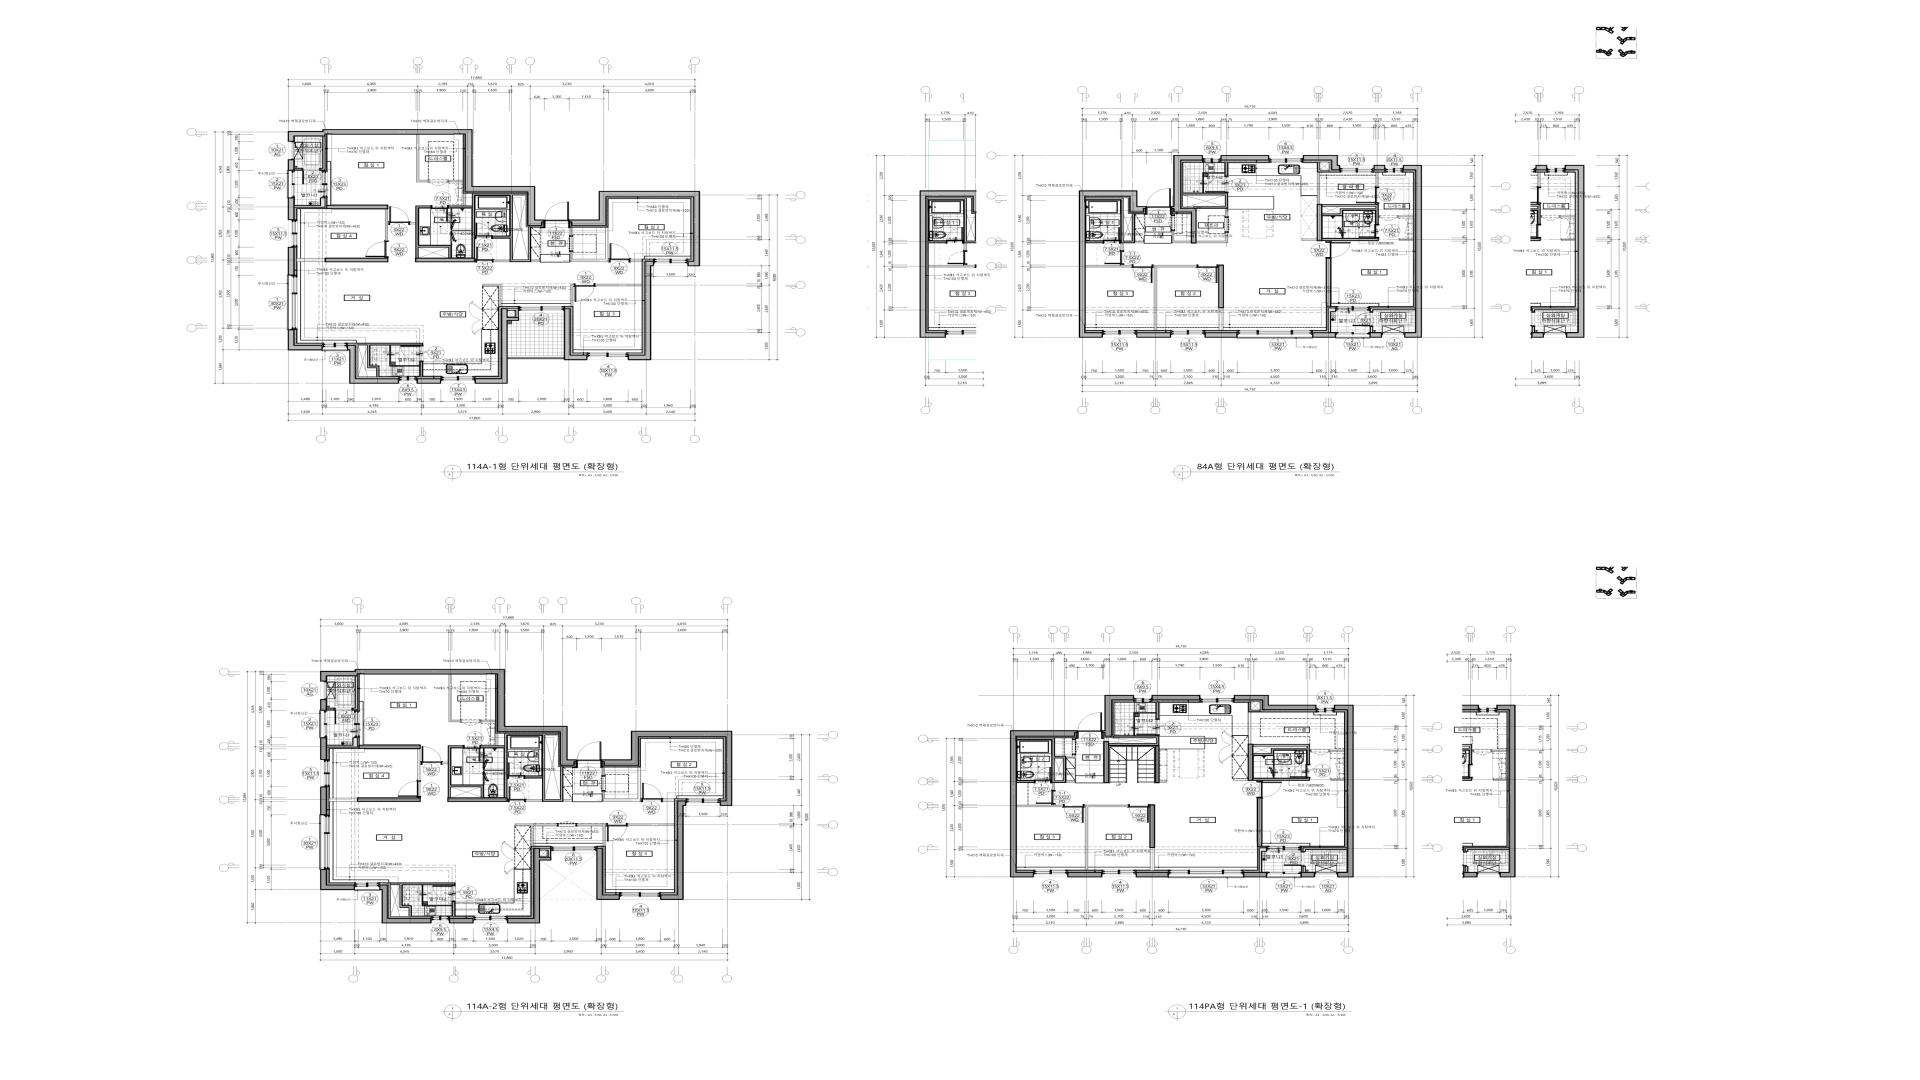door: (543, 203, 570, 228), (1146, 189, 1171, 215), (1077, 712, 1102, 738), (576, 741, 601, 767), (608, 243, 630, 262), (1325, 241, 1350, 258), (1257, 781, 1282, 798), (1133, 264, 1154, 284), (1063, 804, 1085, 823), (605, 823, 628, 841), (400, 345, 423, 363), (1356, 187, 1379, 204), (1205, 175, 1229, 193), (1137, 719, 1160, 736), (388, 207, 409, 225), (574, 284, 595, 302), (1197, 265, 1218, 284), (1129, 804, 1150, 823), (421, 746, 442, 765), (641, 783, 662, 802), (433, 885, 455, 902), (398, 781, 421, 798), (365, 241, 389, 257), (1102, 227, 1121, 244), (463, 745, 481, 762), (475, 223, 493, 240), (302, 167, 320, 185), (1104, 251, 1125, 265), (1284, 852, 1305, 866), (508, 762, 525, 779), (475, 247, 493, 262), (508, 786, 526, 802), (1036, 790, 1056, 804), (1358, 224, 1379, 237), (1290, 765, 1311, 778), (1034, 767, 1051, 783), (335, 708, 352, 724), (431, 206, 448, 222), (429, 179, 448, 186), (1379, 215, 1398, 222), (1311, 749, 1329, 756), (460, 720, 481, 725), (1225, 216, 1232, 232), (558, 822, 576, 827)
wall: (320, 669, 576, 766), (287, 129, 543, 225), (1079, 190, 1146, 338), (1010, 731, 1077, 877), (570, 191, 700, 266), (601, 731, 732, 806), (448, 194, 539, 262), (481, 733, 572, 802), (1335, 704, 1354, 878), (506, 848, 551, 923), (475, 309, 520, 384), (1403, 165, 1422, 338), (1017, 737, 1075, 790), (1085, 198, 1143, 251), (1085, 804, 1129, 870), (1154, 265, 1197, 330), (1171, 156, 1203, 244), (659, 800, 686, 901), (628, 261, 654, 360), (409, 206, 452, 257), (442, 745, 484, 798), (359, 343, 423, 377), (390, 882, 455, 916), (347, 345, 400, 384), (380, 885, 431, 923), (1102, 695, 1134, 737), (570, 228, 608, 262), (603, 767, 641, 802), (1234, 695, 1316, 711), (596, 848, 620, 901), (564, 309, 588, 360), (1254, 744, 1311, 764), (1323, 204, 1379, 224), (1183, 193, 1228, 216), (514, 824, 558, 847), (320, 869, 355, 890), (287, 330, 322, 351), (576, 824, 605, 847), (448, 674, 460, 723), (417, 135, 429, 182), (1303, 156, 1340, 170), (1109, 736, 1159, 746), (1249, 702, 1261, 744), (1317, 162, 1329, 204), (483, 284, 501, 306), (326, 204, 388, 210), (1325, 258, 1332, 307), (327, 737, 357, 748), (1197, 232, 1228, 243), (415, 257, 475, 262), (294, 198, 324, 207), (1257, 798, 1262, 847), (1151, 695, 1200, 700), (1221, 156, 1270, 161), (357, 798, 421, 802), (324, 258, 388, 262), (359, 745, 421, 749), (1247, 744, 1254, 781), (447, 798, 508, 802), (1370, 307, 1415, 313), (1150, 804, 1155, 848), (1218, 265, 1224, 309), (1323, 237, 1379, 241), (1104, 741, 1109, 783), (508, 356, 563, 360), (1172, 231, 1191, 243), (1328, 307, 1336, 332), (1317, 204, 1323, 241), (320, 786, 327, 815), (287, 247, 294, 276), (1067, 872, 1102, 877), (1259, 848, 1267, 872), (352, 676, 357, 711), (1137, 332, 1171, 338), (1205, 332, 1238, 338), (320, 137, 326, 170), (1135, 872, 1168, 877), (1303, 848, 1346, 852), (320, 737, 327, 760), (287, 198, 294, 220), (1254, 778, 1309, 781), (1155, 746, 1159, 783), (448, 918, 473, 923), (417, 378, 442, 384), (595, 284, 642, 286), (1085, 265, 1133, 268), (1244, 872, 1267, 877), (1312, 332, 1336, 338), (1017, 804, 1063, 807), (1150, 848, 1155, 870), (328, 798, 357, 802), (1218, 309, 1224, 330), (297, 258, 324, 262), (541, 848, 551, 857), (508, 309, 518, 318), (418, 749, 421, 781), (385, 210, 388, 241), (287, 160, 294, 171), (320, 699, 327, 711), (451, 902, 456, 916), (1300, 872, 1315, 877), (1017, 779, 1034, 783), (1085, 240, 1102, 244), (1370, 332, 1382, 338), (1374, 165, 1386, 170), (628, 824, 674, 825), (571, 284, 574, 306), (419, 363, 423, 377), (1375, 173, 1379, 187), (630, 258, 642, 262), (1156, 702, 1159, 719), (1302, 239, 1317, 241), (481, 720, 496, 723), (1399, 239, 1414, 241), (1225, 162, 1228, 175), (496, 733, 498, 745), (662, 799, 674, 802), (295, 167, 302, 171), (1398, 216, 1414, 218), (603, 767, 605, 775), (1159, 781, 1167, 783), (570, 228, 572, 236), (1329, 750, 1344, 752), (1233, 779, 1247, 781), (448, 181, 463, 182), (327, 708, 334, 711), (1331, 779, 1344, 781), (1370, 327, 1373, 332), (1303, 866, 1305, 872), (1104, 738, 1109, 741)
window: (1238, 330, 1312, 339), (286, 276, 298, 330), (1168, 870, 1244, 878), (319, 815, 330, 869), (518, 306, 564, 314), (587, 352, 628, 360), (620, 891, 659, 899), (551, 847, 596, 853), (1171, 330, 1205, 338), (1102, 330, 1137, 338), (1340, 165, 1374, 173), (1200, 695, 1234, 703), (686, 798, 720, 806), (442, 376, 475, 384), (1270, 156, 1303, 164), (1034, 869, 1067, 877), (473, 915, 506, 923), (654, 258, 687, 266), (286, 171, 295, 198), (320, 760, 330, 786), (289, 220, 298, 247), (355, 882, 380, 891), (1267, 845, 1302, 852), (1336, 332, 1370, 339), (1267, 872, 1300, 878), (1102, 870, 1135, 877), (319, 711, 327, 737), (352, 711, 360, 737), (323, 343, 347, 351), (1336, 306, 1370, 311), (320, 171, 327, 198), (1203, 156, 1221, 164), (400, 376, 417, 384), (1386, 165, 1403, 173), (1134, 695, 1151, 703), (431, 915, 448, 923), (1316, 705, 1335, 712), (1315, 872, 1337, 877), (1382, 332, 1404, 338), (320, 682, 327, 699), (289, 142, 294, 160)
